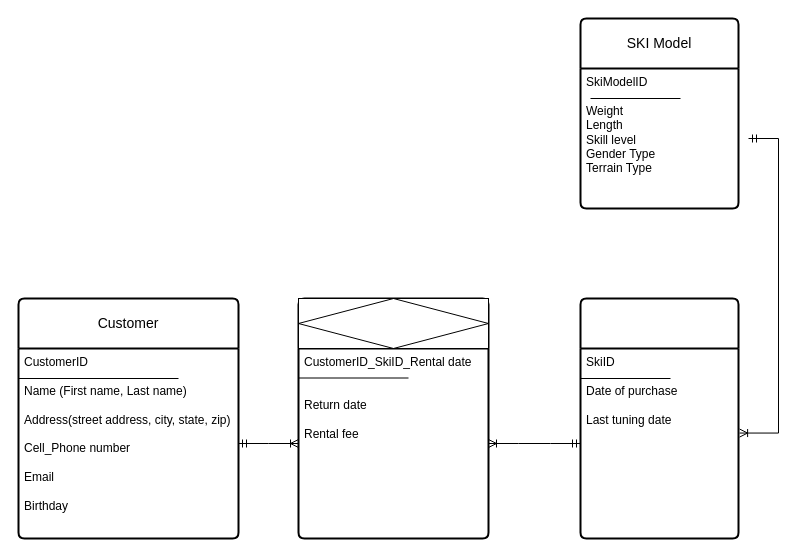
This 805x556 diagram has some shape labels left out. Each missing label, with the box of its shape:
Ski Pair: (579, 297, 739, 539)
Ski Rentals: (298, 298, 488, 348)
